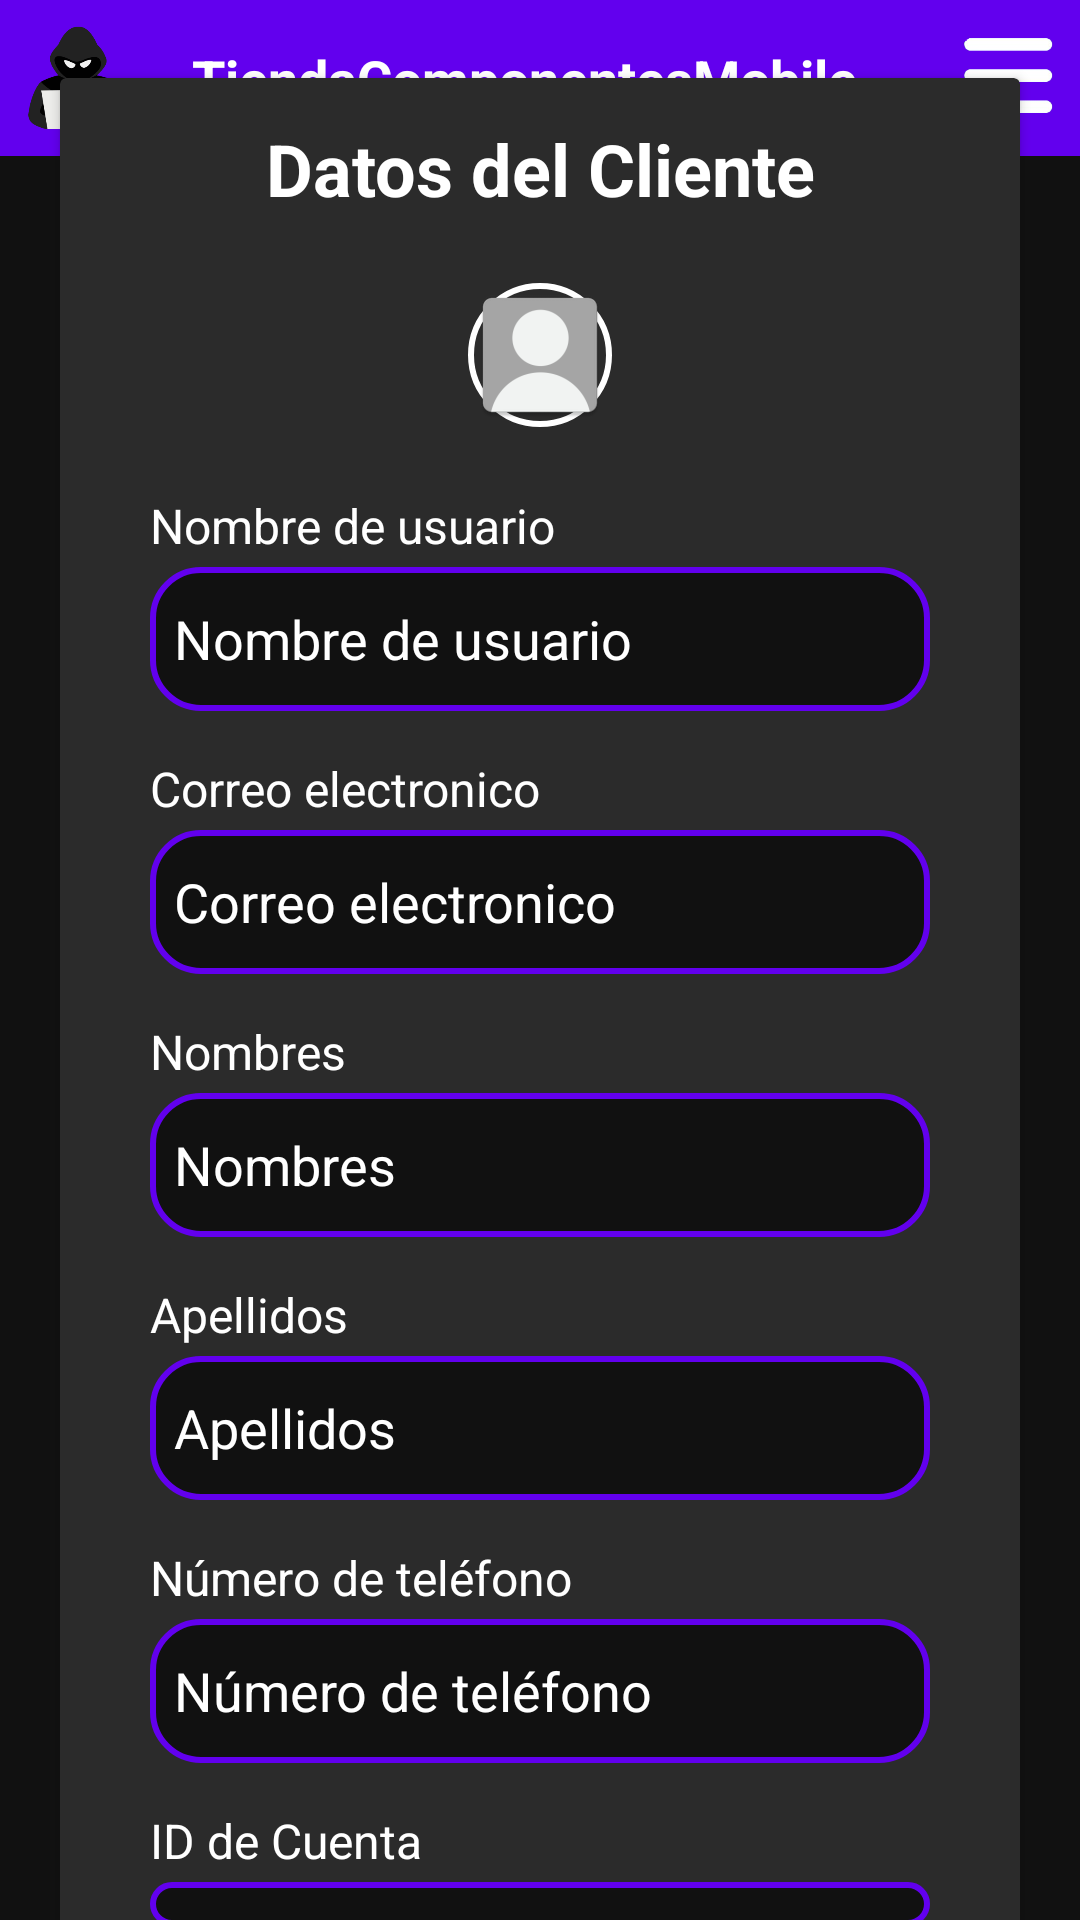

Locate icon controls on the screen. Image size 1080*1920, boxes as (x1, y1, x2, y2).
user profile: (468, 283, 612, 427)
